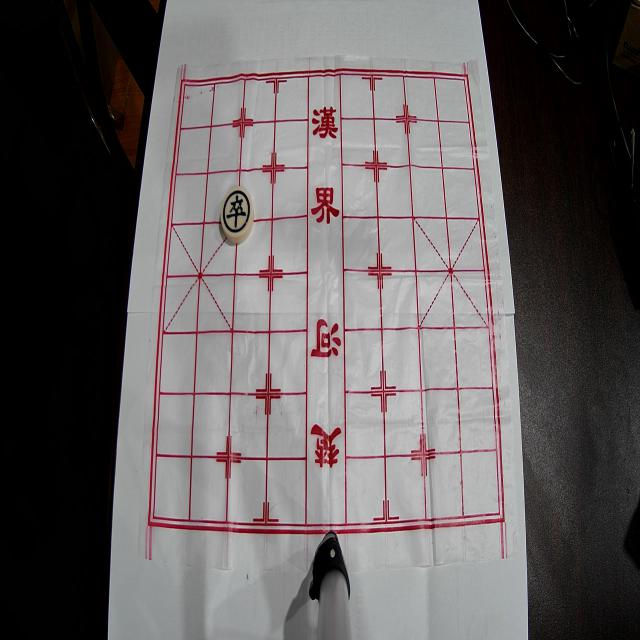black-soldier: (220, 186, 253, 244)
